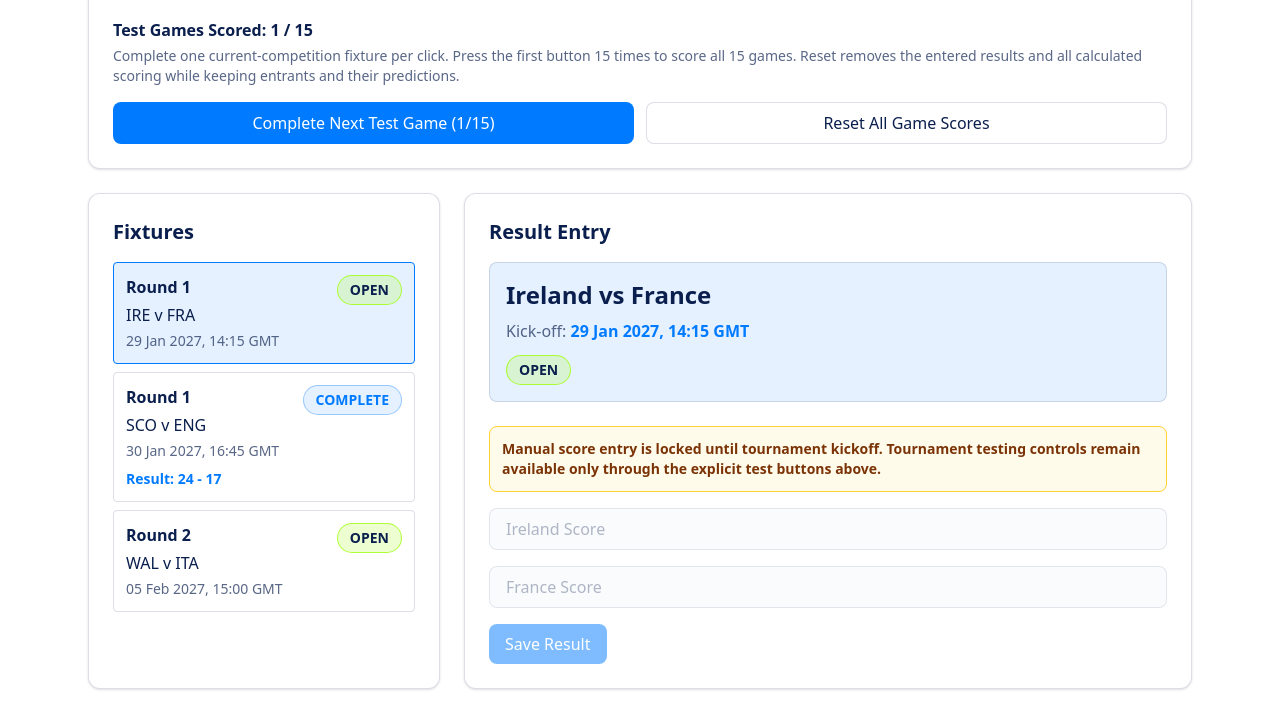
Test case: AdminPage › selects completed match and loads existing scores
The image size is (1280, 713).
(page scrolled)
Expected: the text "SCO v ENG" is shown, top-left (126, 414), bottom-right (206, 436)
Click the button "SCO v ENG".
click(152, 397)  # box top-left (113, 372), bottom-right (415, 502)
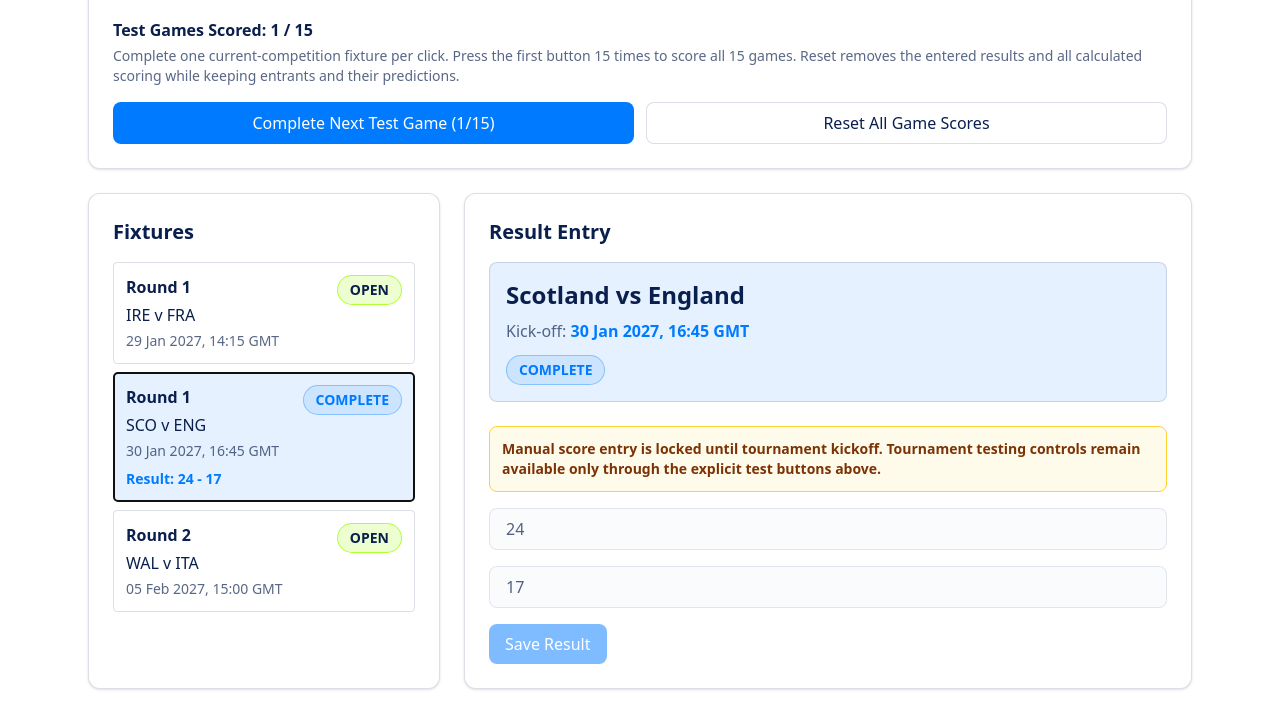
Result: the heading "Scotland vs England" is shown at top-left (506, 278), bottom-right (745, 311)
Result: the 1st number field showing "24" is shown at top-left (489, 508), bottom-right (1167, 550)
Result: the 2nd number field showing "17" is shown at top-left (489, 566), bottom-right (1167, 608)
